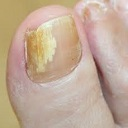Nail Fungal Infection: (26, 25, 56, 72)
